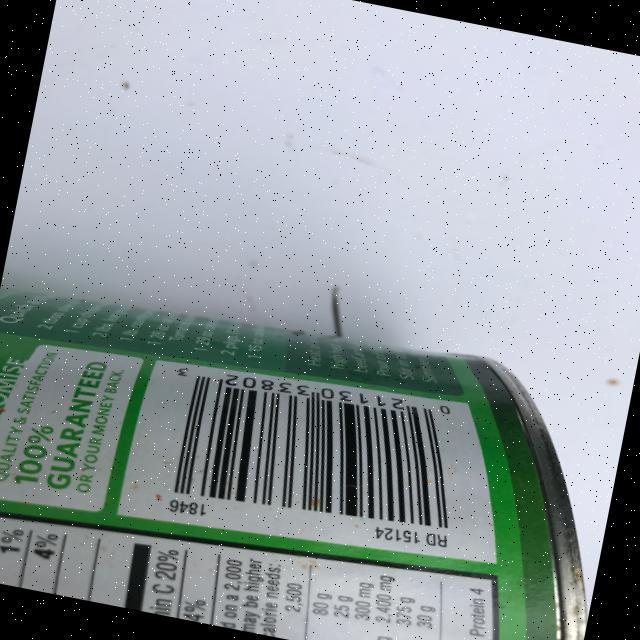metal: (0, 261, 632, 640)
